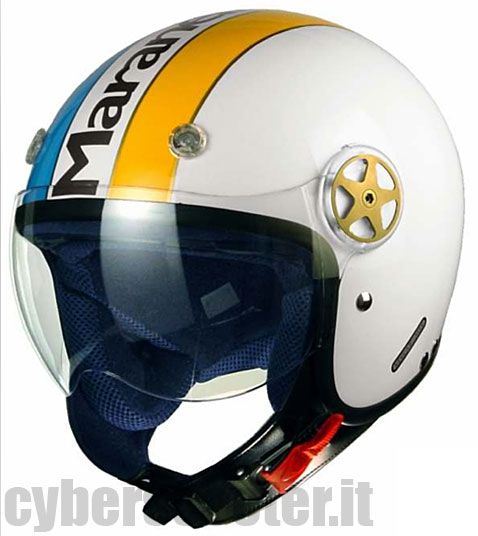helmet: (37, 18, 438, 437)
